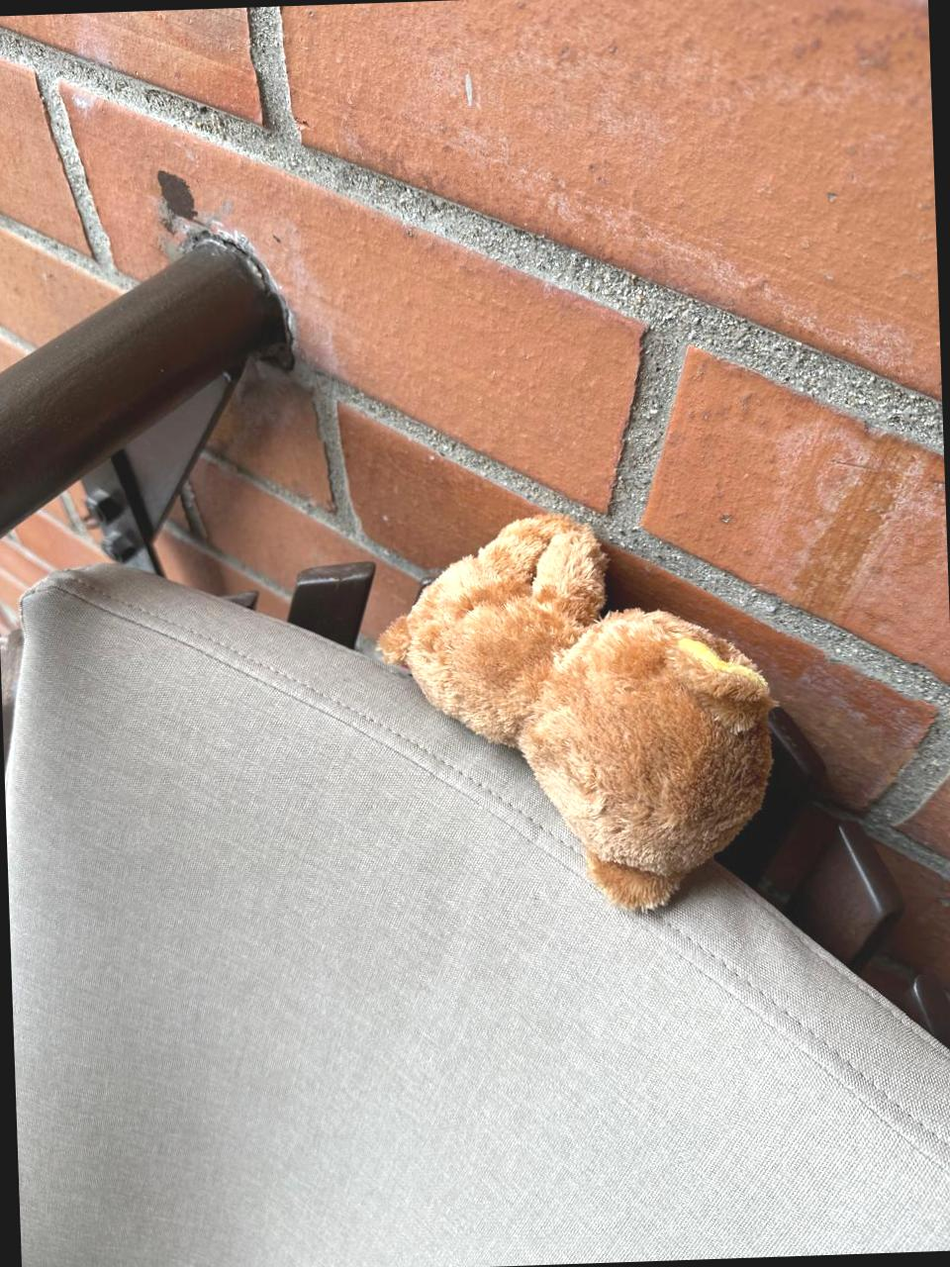peluche_sebastian: (359, 501, 795, 942)
